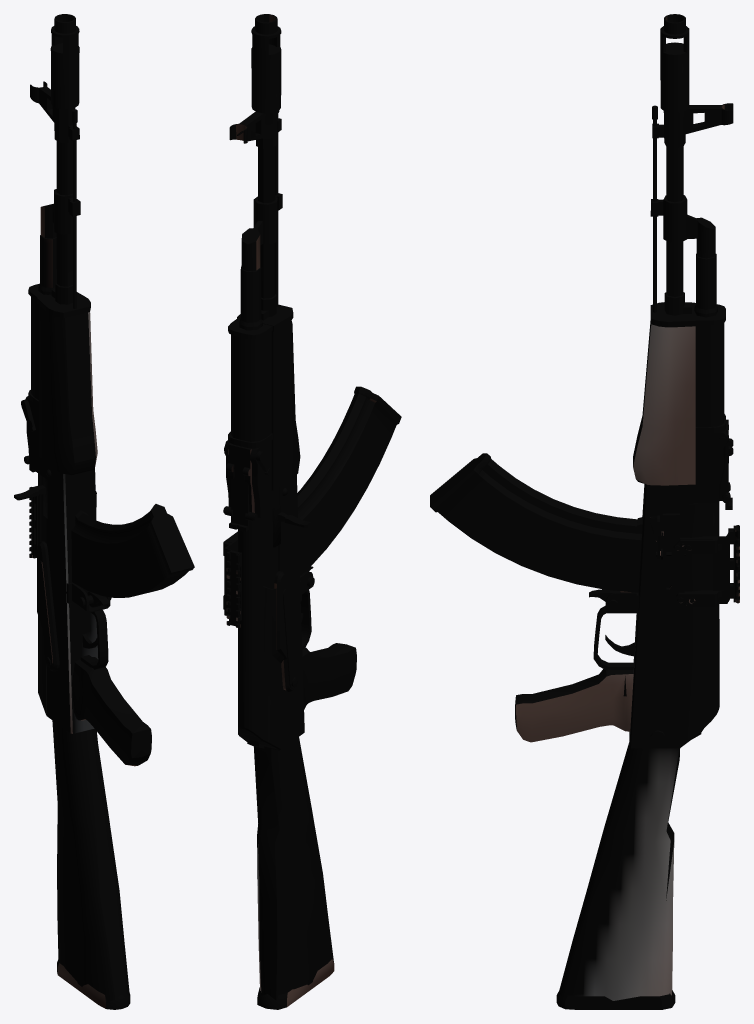
The model's file is AK74__Mount_AK_SideRail.fbx.
The picture shows the model from 3 angles, left to right: view 1: azimuth 30°, elevation 25°; view 2: azimuth 150°, elevation 25°; view 3: azimuth 270°, elevation 25°; orthographic projection. The views are drawn at different scales.
Parts seen in each view (by area): view 1: asset_AK74.001; view 2: asset_AK74.001; view 3: asset_AK74.001.
Boxes of the visible parts, box(x1,y1,x2,y2) form: asset_AK74.001: box(14, 14, 194, 1009); asset_AK74.001: box(223, 14, 401, 1009); asset_AK74.001: box(430, 14, 739, 1009).
Size of the model in its own units: 0.0426 by 0.564 by 0.1608.
